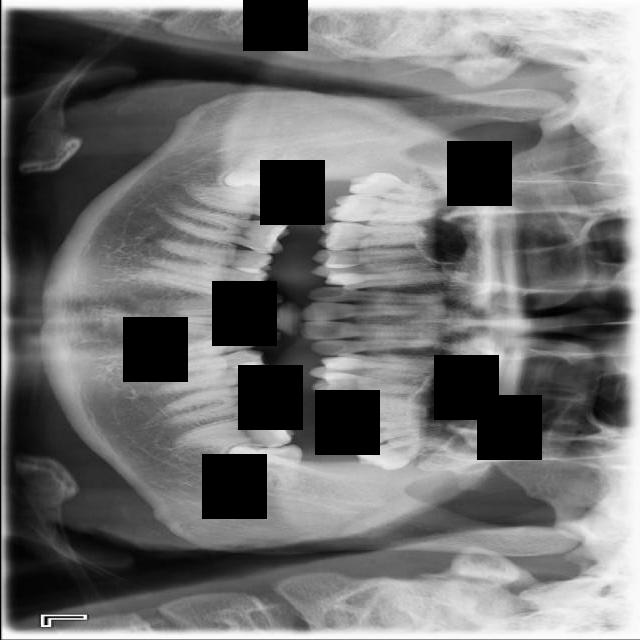3M ESPE Implant: (347, 167, 450, 208)
73: (28, 582, 51, 594)
BioHorizons Implant: (326, 411, 454, 451)
BioLife Implant: (354, 429, 456, 477)
Biomet 3i Implant: (226, 440, 303, 492)
Blue Sky Bio Implant: (173, 409, 294, 452)
Caries: (327, 194, 447, 224)
Implant: (192, 184, 302, 221)
Keystone Dental Implant: (222, 145, 302, 194)
